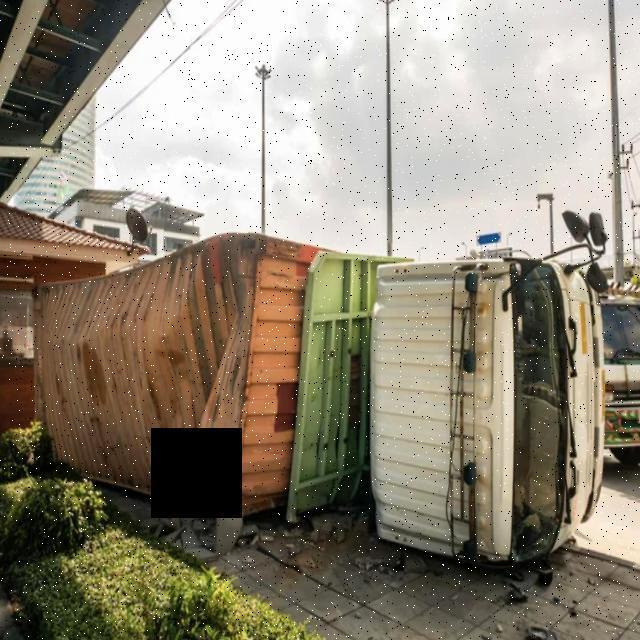single accident: (184, 197, 627, 596)
